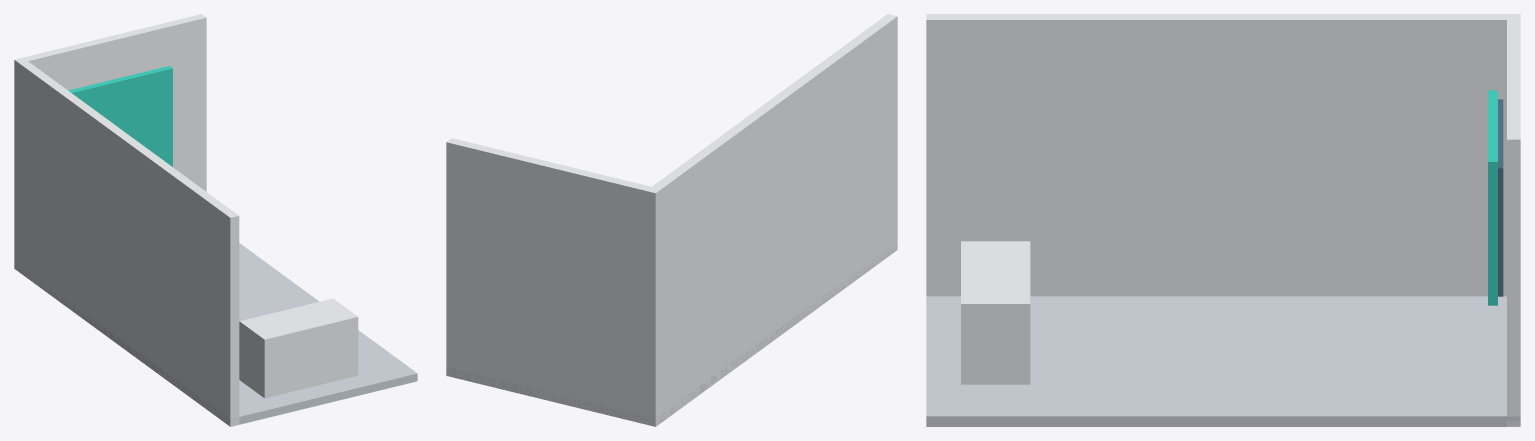
3 renders of one model, left to right at view 1: azimuth 30°, elevation 25°; view 2: azimuth 150°, elevation 25°; view 3: azimuth 270°, elevation 25°, orthographic. The views are drawn at different scales.
Visible parts, largest first — view 1: Exhibition Booth Concept; view 2: Exhibition Booth Concept; view 3: Exhibition Booth Concept.
Part boxes in pixels (x1=…): Exhibition Booth Concept: x1=14, y1=14, x2=417, y2=426; Exhibition Booth Concept: x1=446, y1=14, x2=897, y2=426; Exhibition Booth Concept: x1=926, y1=14, x2=1520, y2=426.
Size of the model in its own units: 3 by 3.2 by 6.
